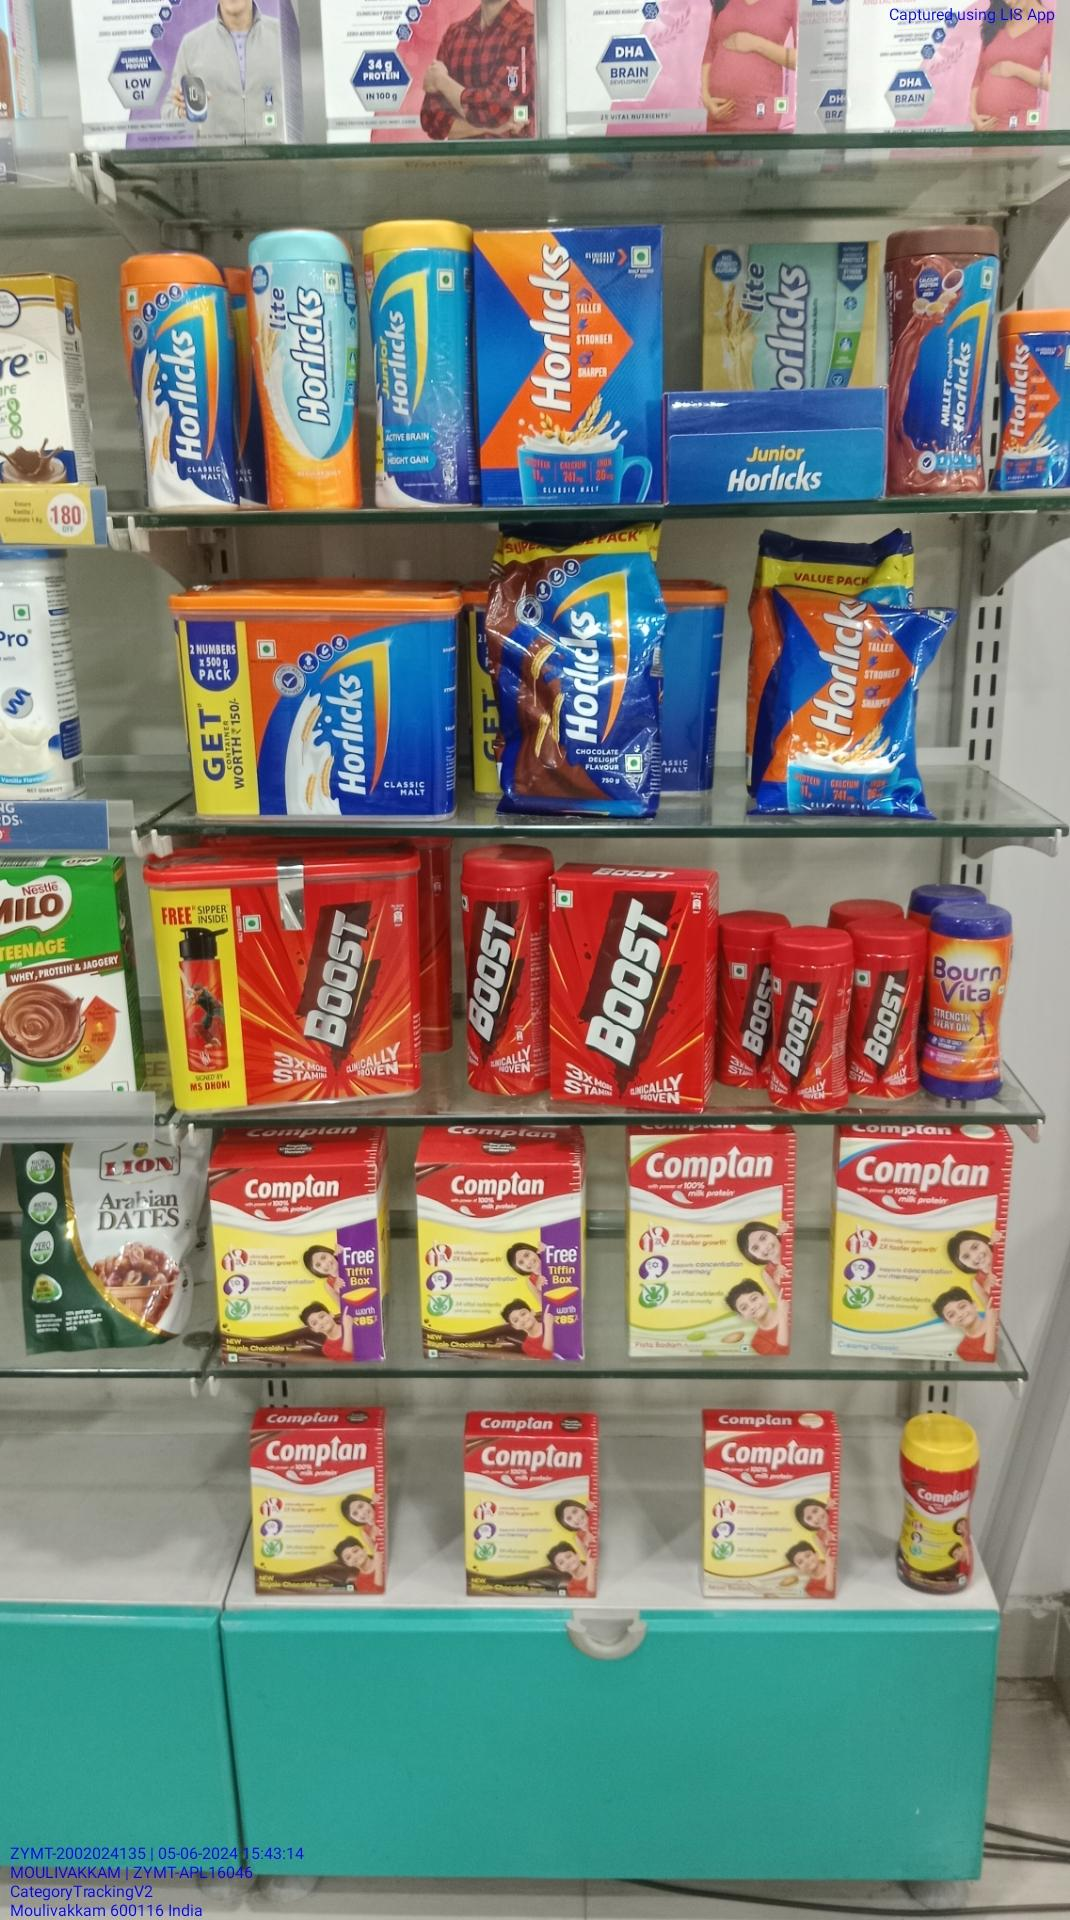BOURN_VITA_200_G_JAR: (926, 900, 1008, 1100)
COMPLAN_CHOCOLATE_200_GMS_JAR: (900, 1418, 976, 1593)
COMPLAN_CREAMY_CLASSIC_500_G_PACK: (834, 1137, 1003, 1361)
COMPLAN_KESAR_BADAM_200_GMS_PACK: (705, 1426, 839, 1600)
COMPLAN_PISTA_BADAM_500_GMS_PACK: (629, 1131, 793, 1361)
HORLICKS_JUNIOR_VANILLA_500_GM_JAR: (365, 217, 470, 507)
HORLICKS_LITE_REGULAR_MALT_500_GM_JAR: (253, 233, 354, 510)
HORLICK_CLASSIC_MALT_500_G_JAR: (121, 252, 242, 511)
HORLICK_CLASSIC_MALT_500_G_PACK: (481, 224, 658, 499)
HORLICK_MALT_1_KG_CONTAINER: (175, 594, 448, 820)
